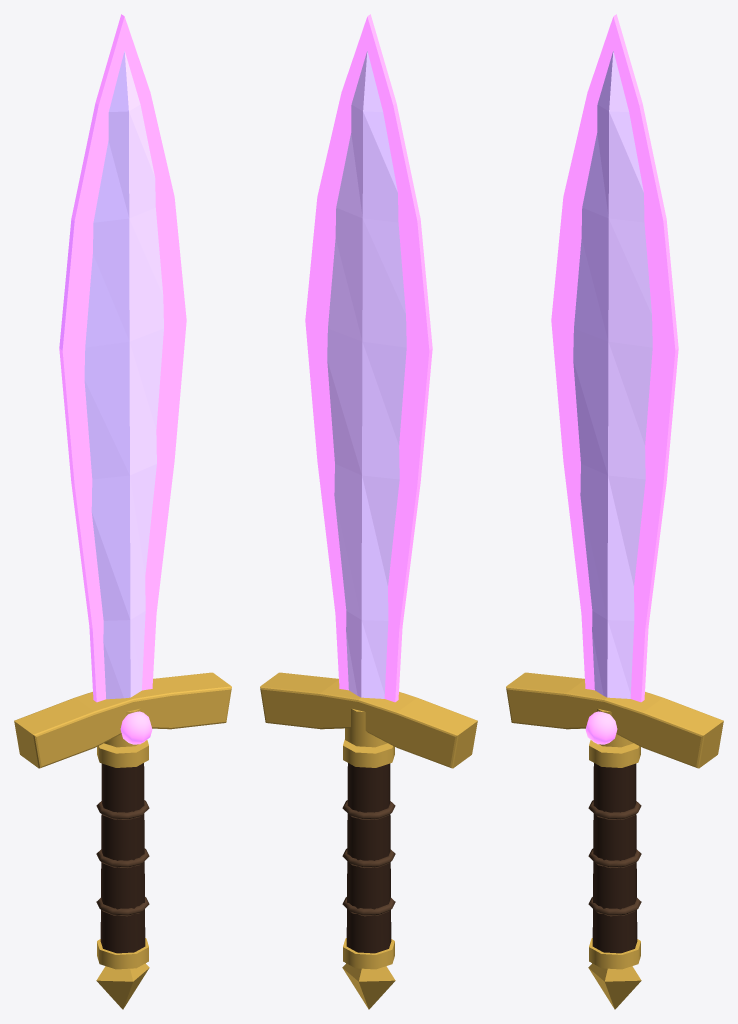
File: sword_f2_42a5e8a7.glb
The picture shows the model from 3 angles, left to right: view 1: azimuth 30°, elevation 25°; view 2: azimuth 150°, elevation 25°; view 3: azimuth 330°, elevation 25°; orthographic projection.
Visible parts, largest first — view 1: m0_ow80_, m1_, m4_ow80_, m2_ow80_, m5_ow80_, m3_gm160_; view 2: m0_ow80_, m1_, m4_ow80_, m2_ow80_, m5_ow80_; view 3: m0_ow80_, m1_, m4_ow80_, m2_ow80_, m5_ow80_, m3_gm160_.
Part boxes in pixels (x1,y1,x2,y2): m0_ow80_: [84, 51, 163, 699]; m1_: [59, 14, 186, 702]; m4_ow80_: [14, 672, 231, 1009]; m2_ow80_: [100, 763, 145, 953]; m5_ow80_: [96, 800, 149, 916]; m3_gm160_: [120, 711, 152, 744]; m0_ow80_: [327, 51, 406, 698]; m1_: [305, 14, 432, 702]; m4_ow80_: [260, 672, 477, 1009]; m2_ow80_: [346, 763, 391, 953]; m5_ow80_: [342, 800, 395, 916]; m0_ow80_: [573, 51, 652, 698]; m1_: [551, 14, 678, 702]; m4_ow80_: [506, 672, 723, 1009]; m2_ow80_: [592, 763, 637, 953]; m5_ow80_: [588, 800, 641, 916]; m3_gm160_: [585, 711, 617, 744].
Bounding box in the file's own units: 0.3891 × 1.86 × 0.1189.
